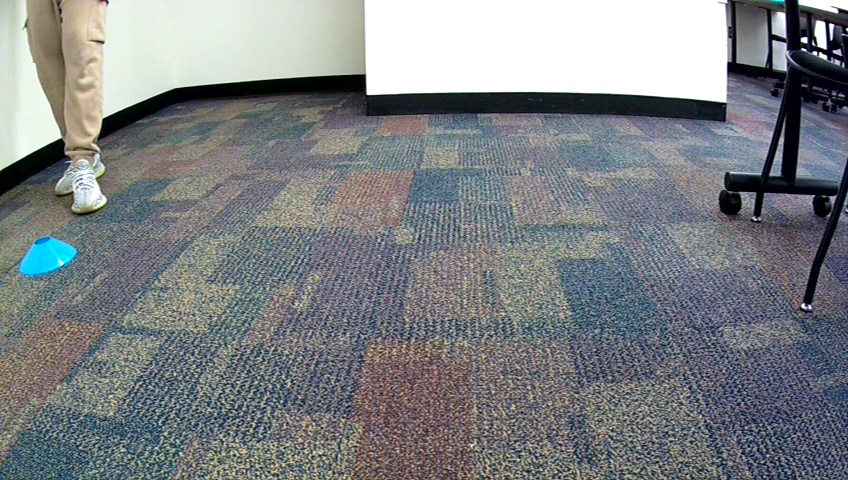cone: (19, 235, 78, 277)
